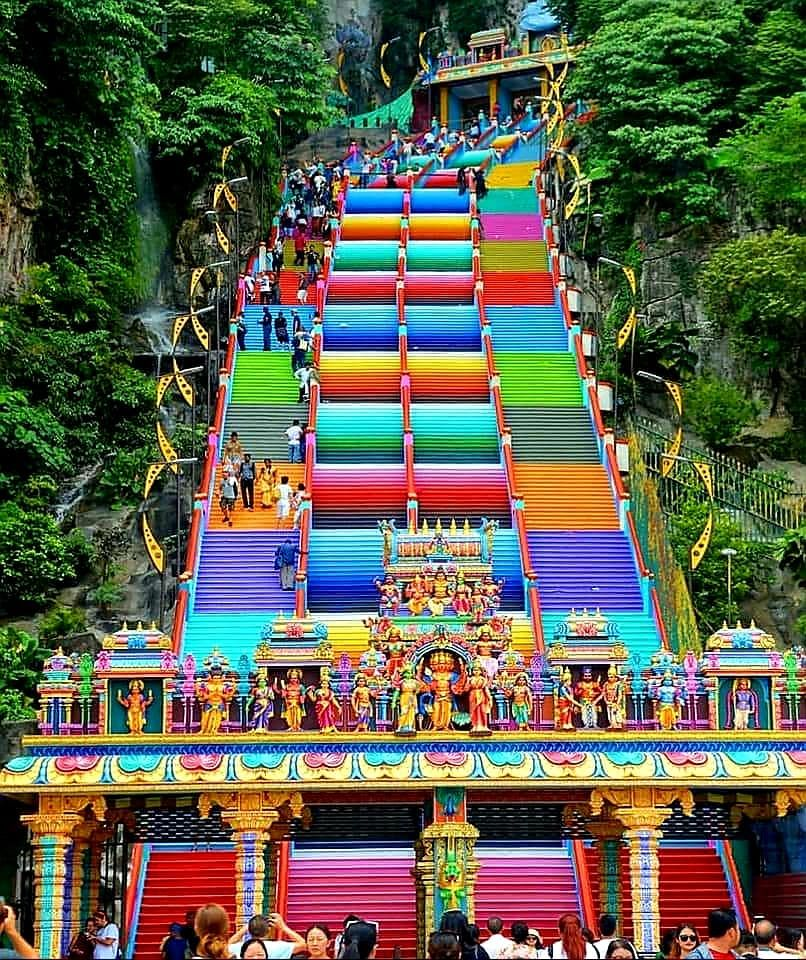Hindu Temple: (32, 571, 800, 770)
